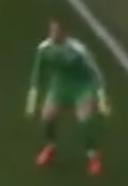goalkeeper: (18, 4, 128, 186)
